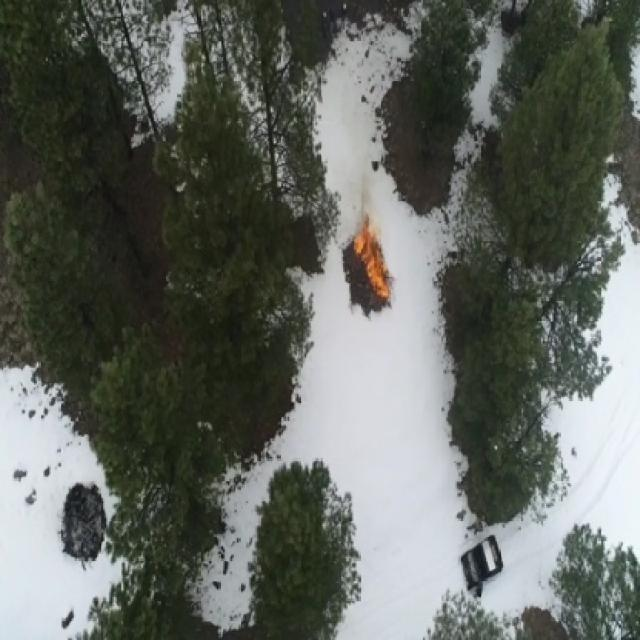Fire: (351, 214, 392, 301)
